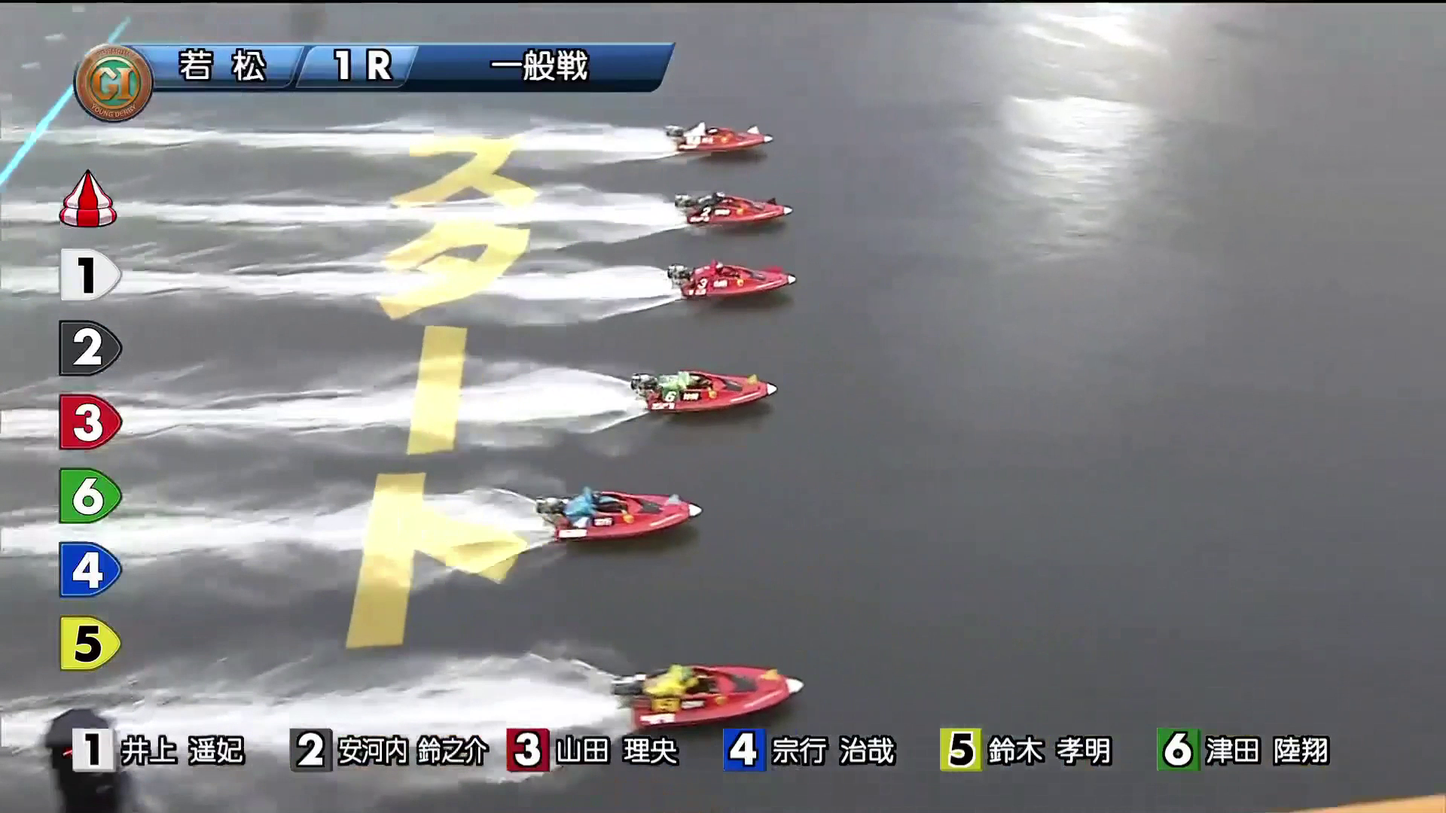１号艇: (702, 111, 761, 157)
２号艇: (683, 191, 786, 229)
３号艇: (678, 259, 804, 301)
４号艇: (669, 360, 773, 403)
５号艇: (565, 485, 685, 540)
６号艇: (624, 656, 782, 713)
